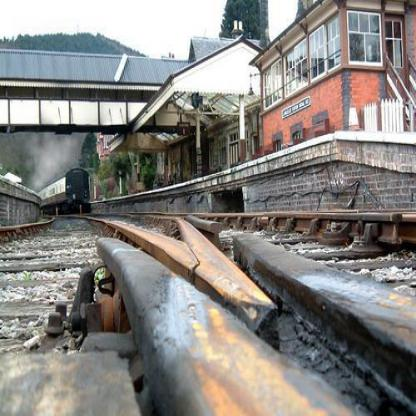train: (35, 167, 90, 213)
